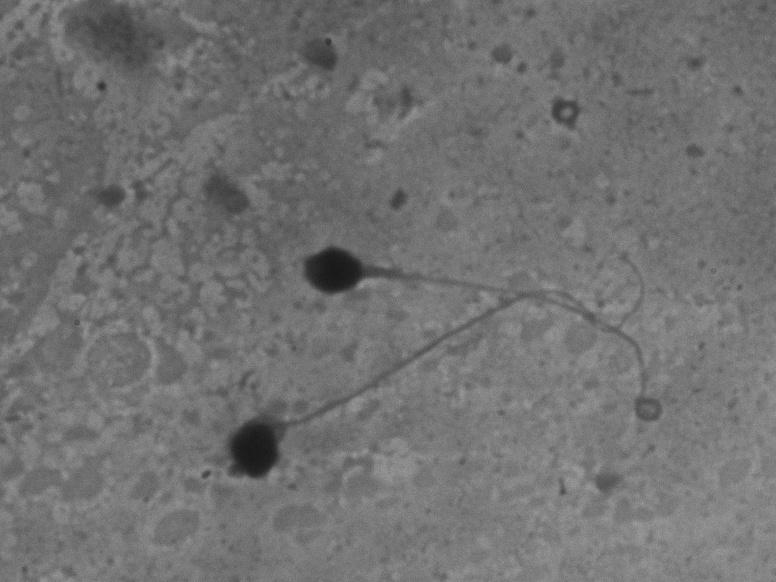Abnormal: (209, 273, 695, 492), (222, 216, 662, 335)
